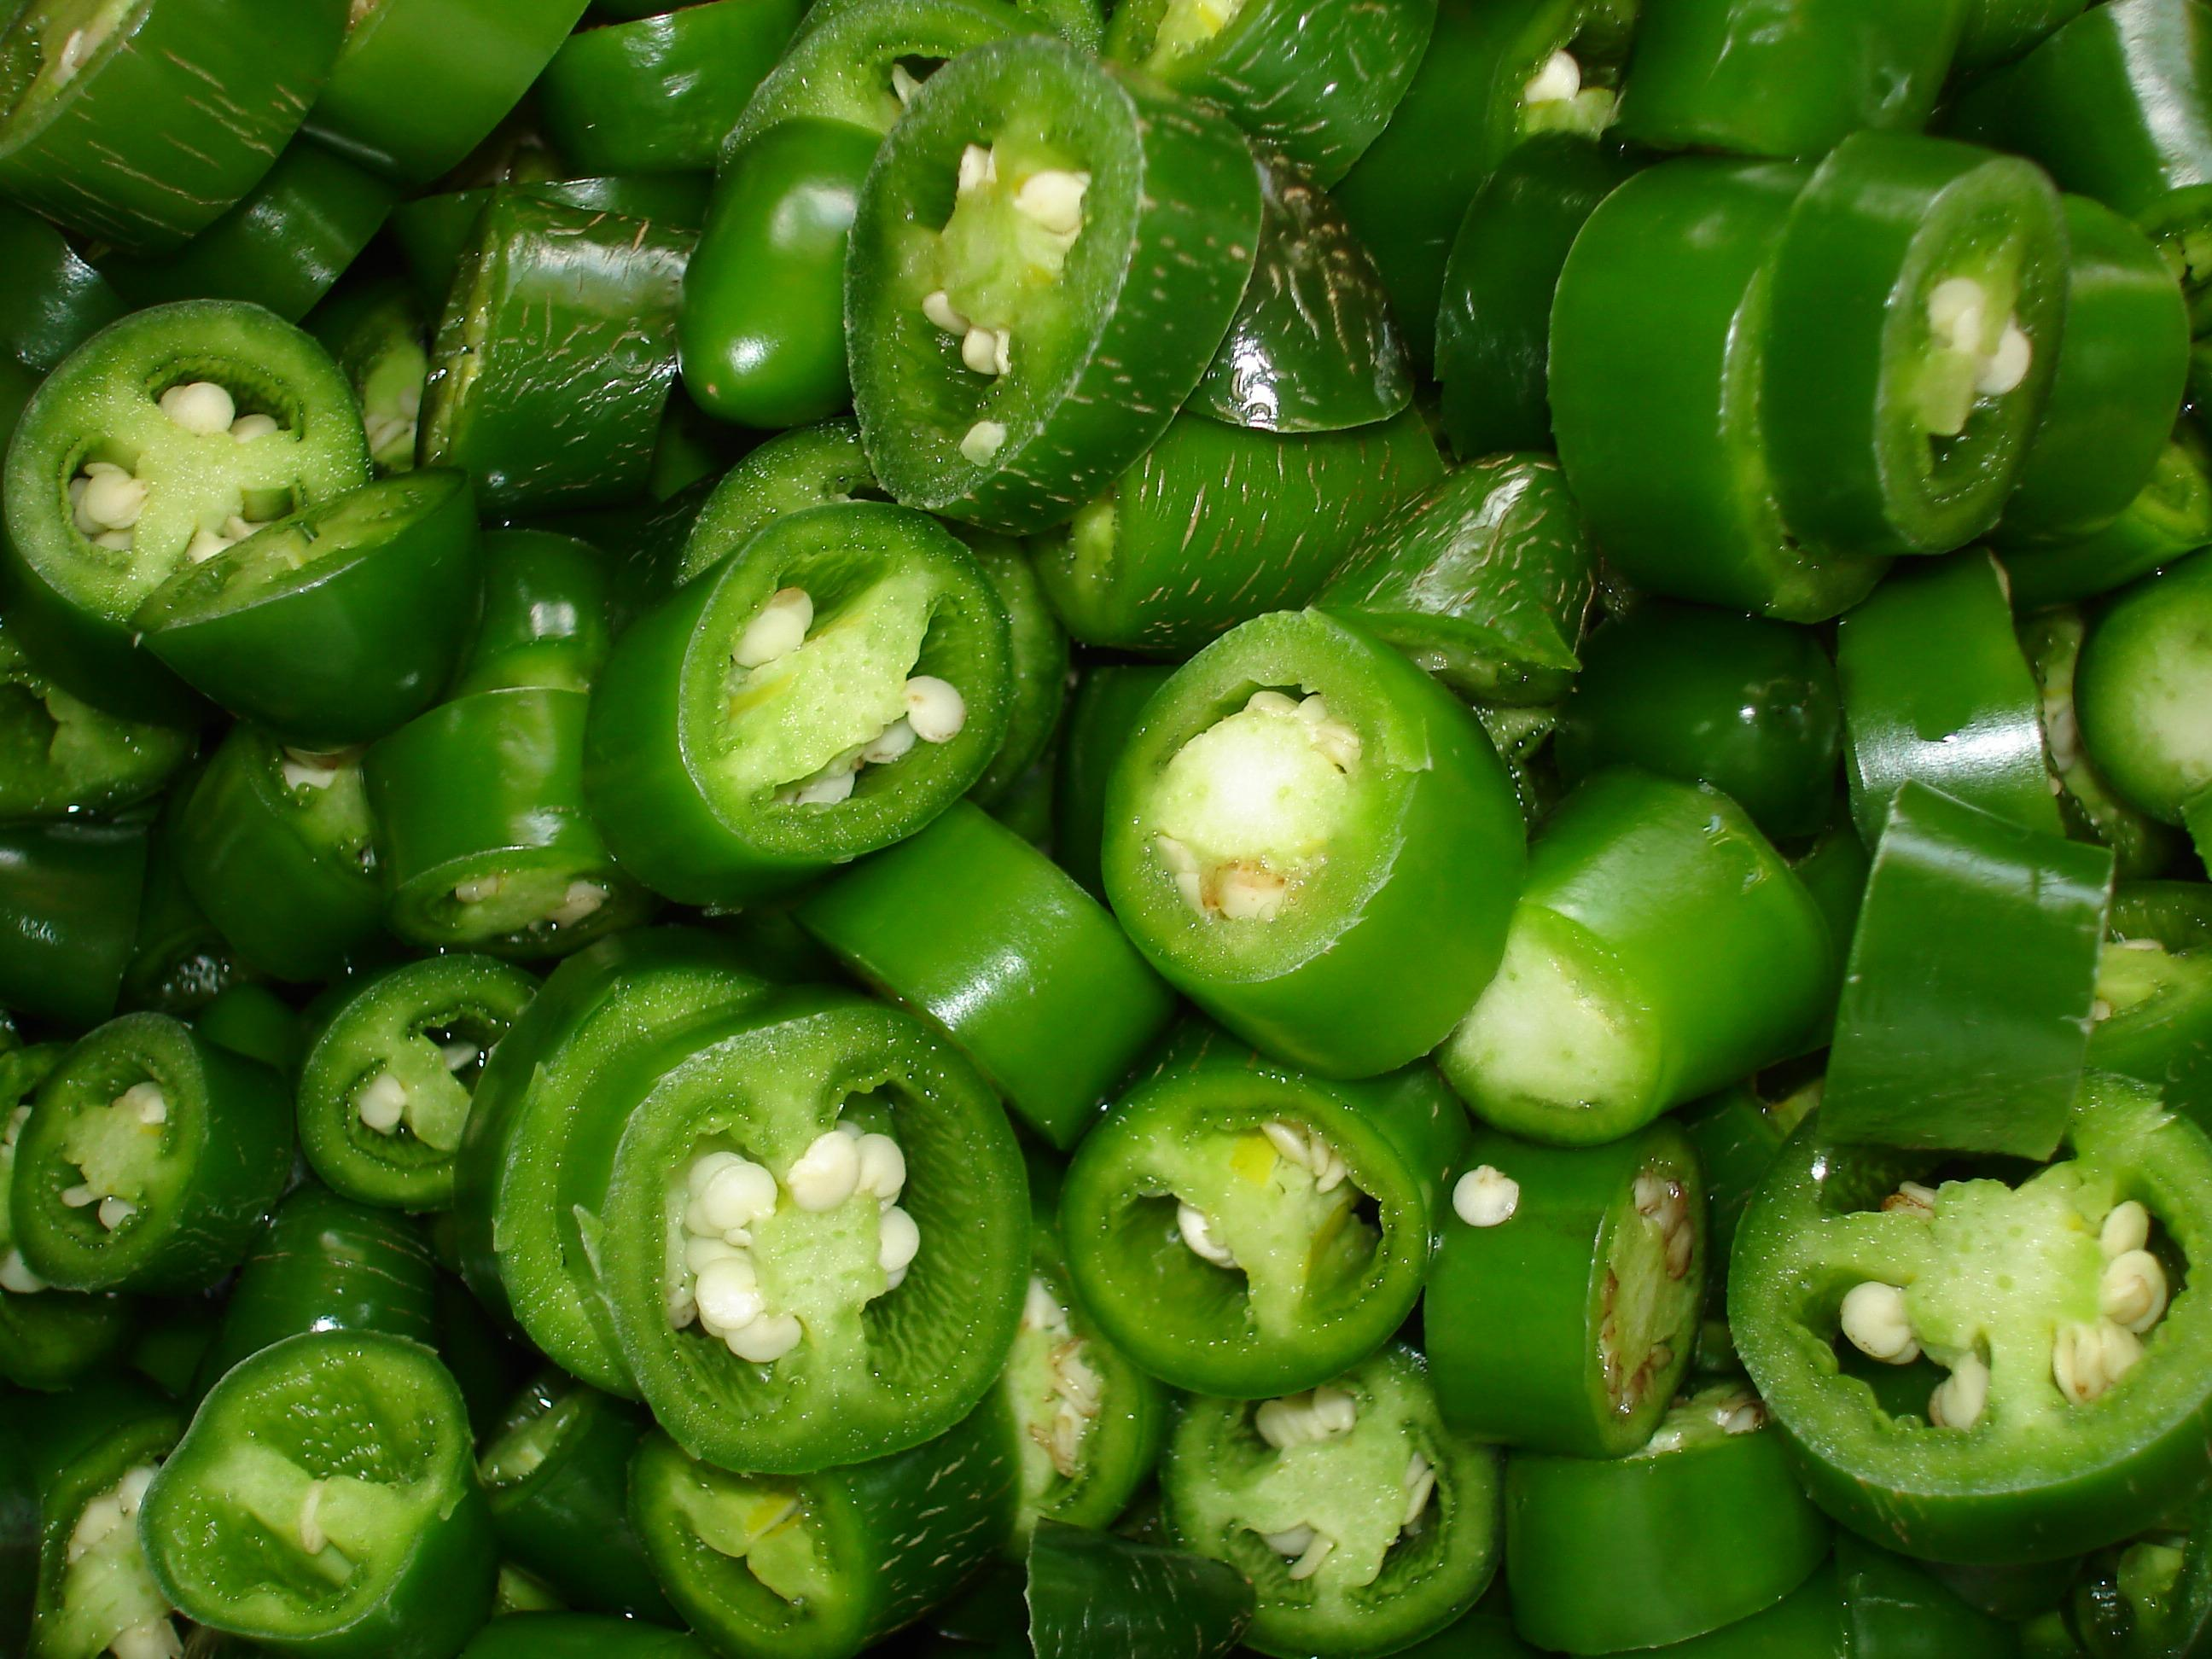jalepeno: (3, 2, 2205, 1654), (1723, 1068, 2209, 1565), (583, 990, 1034, 1475), (837, 31, 1263, 533), (1096, 603, 1529, 1079), (579, 497, 1015, 908), (1433, 762, 1834, 1145), (1725, 125, 2071, 558), (1054, 1043, 1434, 1399), (2, 293, 374, 635), (135, 1325, 498, 1655), (132, 463, 482, 746)
